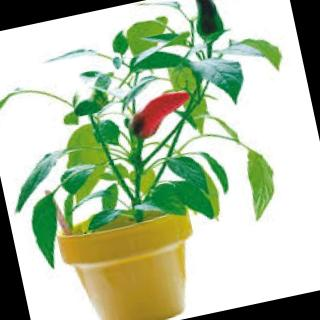Cabai Merah: (122, 91, 195, 141)
